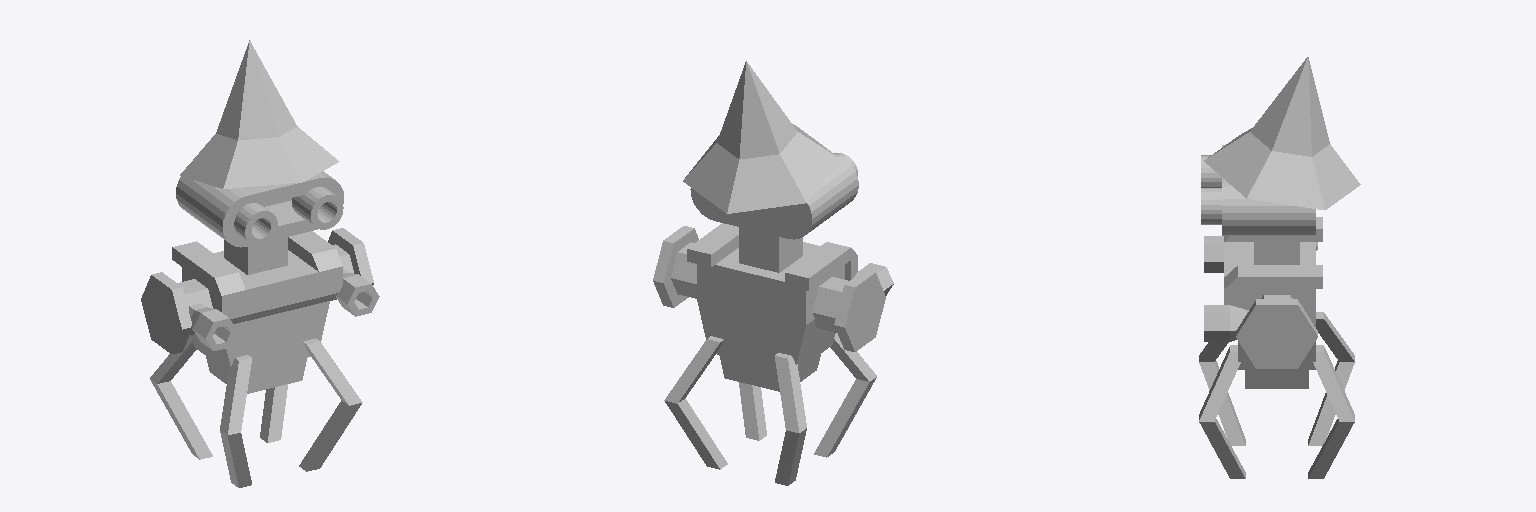
File: walking_03_04.obj
The picture shows the model from 3 angles: view 1: azimuth 30°, elevation 25°; view 2: azimuth 150°, elevation 25°; view 3: azimuth 270°, elevation 25°; orthographic projection.
Visible parts, largest first — view 1: mergedBlocks; view 2: mergedBlocks; view 3: mergedBlocks.
Boxes of the visible parts, <box> form: mergedBlocks: <box>141,40,379,487</box>; mergedBlocks: <box>653,61,893,485</box>; mergedBlocks: <box>1199,57,1360,478</box>.
Bounding box in the file's own units: 1.42 × 2.88 × 1.04.